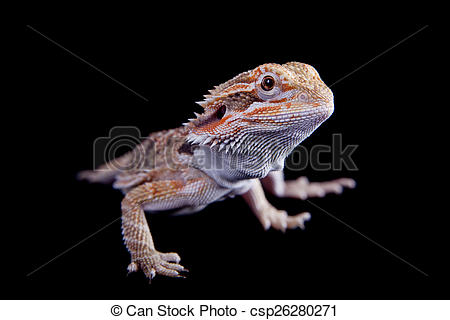bearded: (73, 54, 356, 285)
